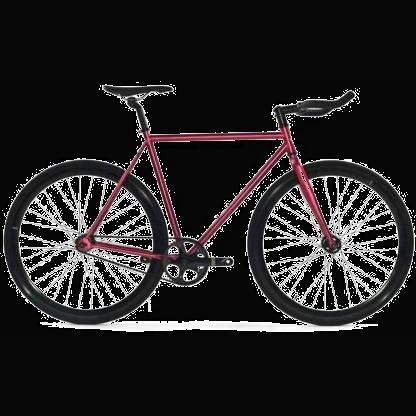Bicycle: (2, 70, 413, 334)
